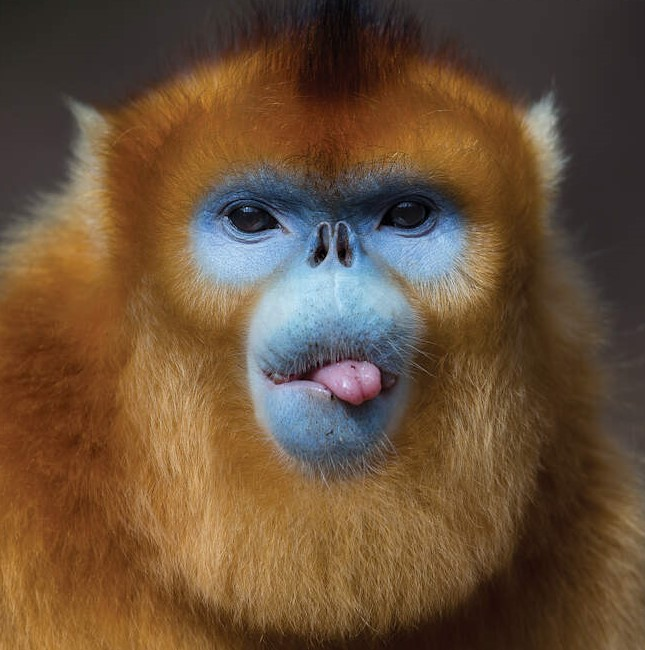GoldenSnub-Nosed: (49, 43, 605, 604)
